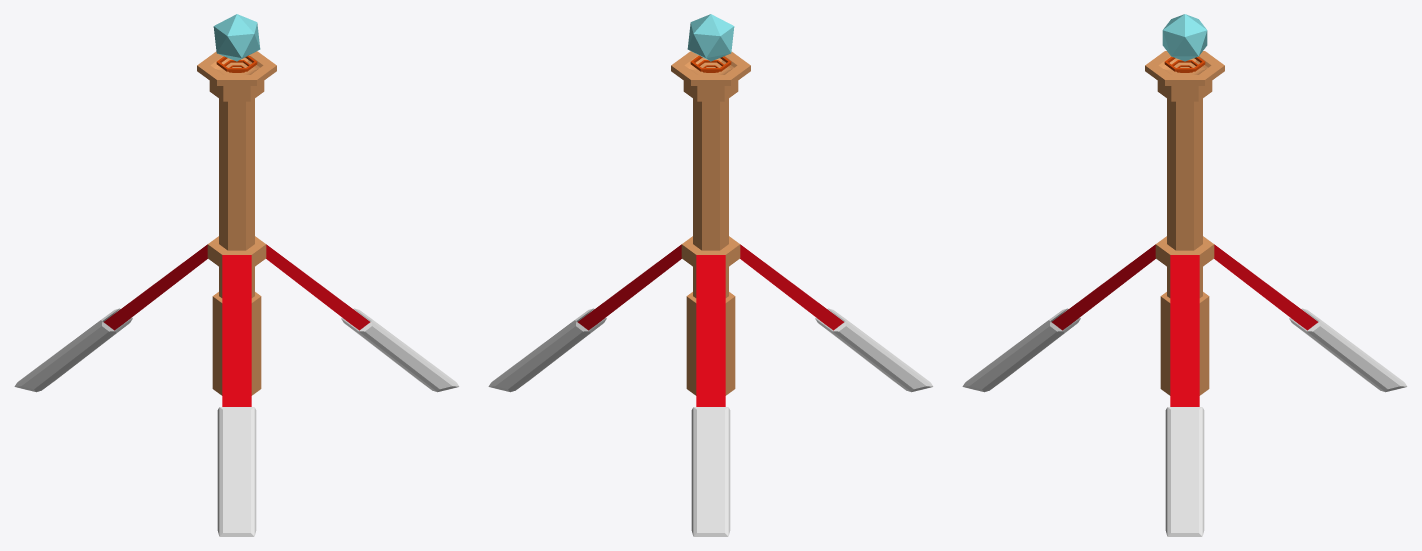
File: Trepied.fbx
3 views of the same model, side by side, from view 1: azimuth 30°, elevation 25°; view 2: azimuth 150°, elevation 25°; view 3: azimuth 270°, elevation 25° (orthographic).
Parts seen in each view (by area): view 1: Cylinder, Cylinder.007, Cylinder.004, Cylinder.008, Cylinder.009, Icosphere, Cylinder.005, Cylinder.006; view 2: Cylinder, Cylinder.008, Cylinder.005, Cylinder.007, Cylinder.009, Icosphere, Cylinder.004, Cylinder.006; view 3: Cylinder, Cylinder.009, Cylinder.006, Cylinder.007, Cylinder.008, Icosphere, Cylinder.004, Cylinder.005.
Part boxes in pixels (left/top/right/bottom): Cylinder: left=197, top=51, right=276, bottom=395; Cylinder.007: left=217, top=407, right=256, bottom=536; Cylinder.004: left=222, top=255, right=251, bottom=406; Cylinder.008: left=14, top=308, right=132, bottom=392; Cylinder.009: left=341, top=308, right=459, bottom=392; Icosphere: left=213, top=14, right=260, bottom=61; Cylinder.005: left=103, top=244, right=207, bottom=330; Cylinder.006: left=266, top=244, right=370, bottom=330; Cylinder: left=671, top=51, right=750, bottom=395; Cylinder.008: left=691, top=407, right=730, bottom=536; Cylinder.005: left=696, top=255, right=725, bottom=406; Cylinder.007: left=815, top=308, right=933, bottom=392; Cylinder.009: left=488, top=308, right=606, bottom=392; Icosphere: left=687, top=14, right=734, bottom=61; Cylinder.004: left=740, top=244, right=844, bottom=330; Cylinder.006: left=577, top=244, right=681, bottom=330; Cylinder: left=1145, top=51, right=1224, bottom=395; Cylinder.009: left=1165, top=407, right=1204, bottom=536; Cylinder.006: left=1170, top=255, right=1199, bottom=406; Cylinder.007: left=962, top=308, right=1080, bottom=392; Cylinder.008: left=1289, top=308, right=1407, bottom=392; Icosphere: left=1162, top=14, right=1207, bottom=61; Cylinder.004: left=1051, top=244, right=1155, bottom=330; Cylinder.005: left=1214, top=244, right=1318, bottom=330.
Bounding box in the file's own units: 398 × 477 × 460.
